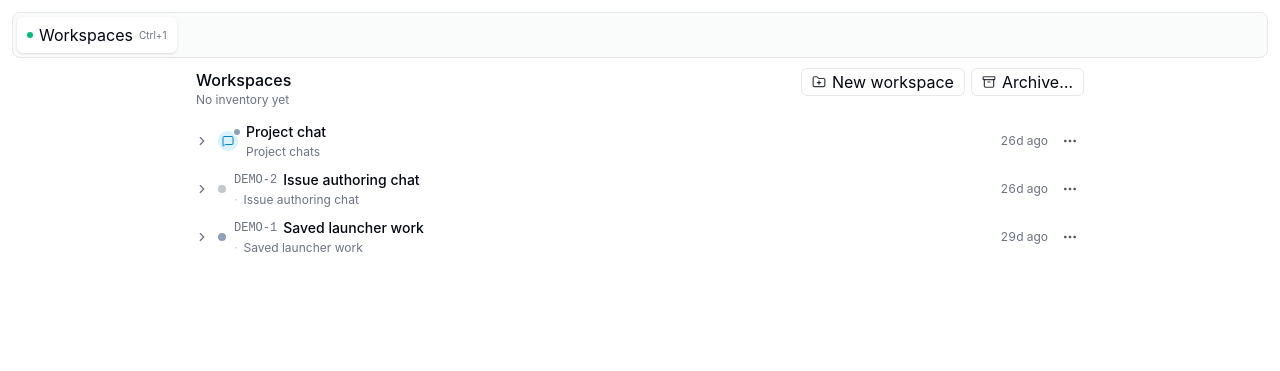
Test: ProjectSessionsPanel › lists the orchestrator execution as a single thread row (no synthetic Autonomous row)
Check: the list item "DEMO-1 Saved launcher work · Saved launcher work 29d ago" is shown, box [194,214,1086,260]
Click the 3rd button named "Expand" at x=202, y=237, box [194,230,210,244]
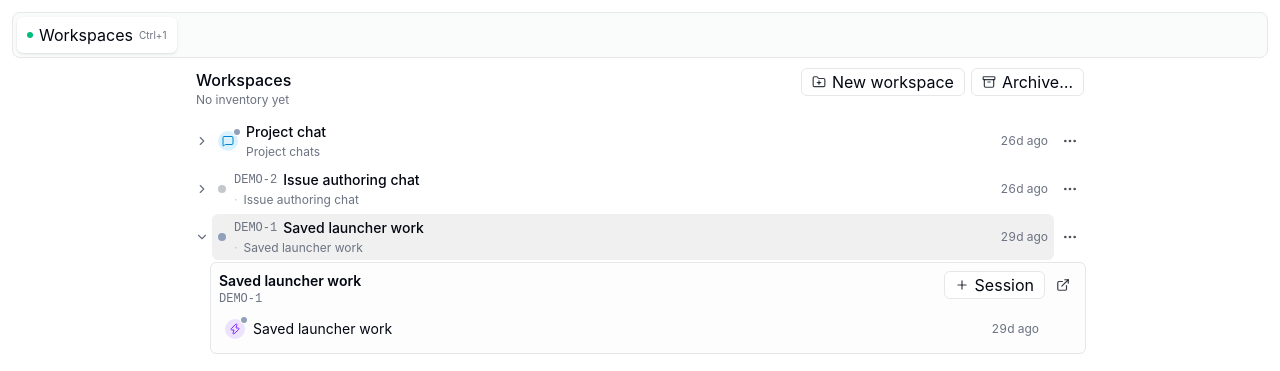
Check: the number of buttons "Saved launcher work 29d ago" is 1, box [219,313,1077,345]
